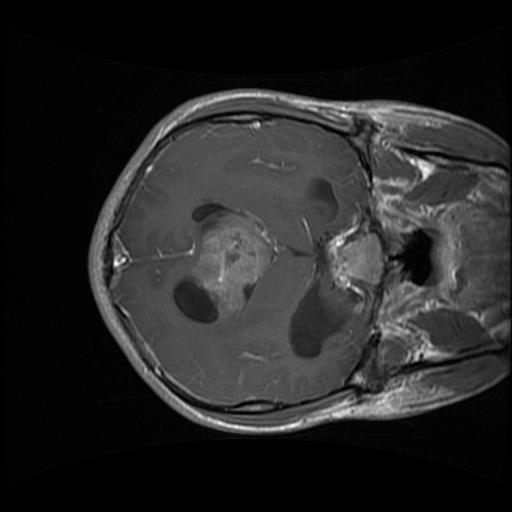glioma: (172, 199, 284, 327)
